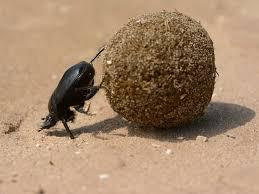insect: (35, 45, 114, 143)
